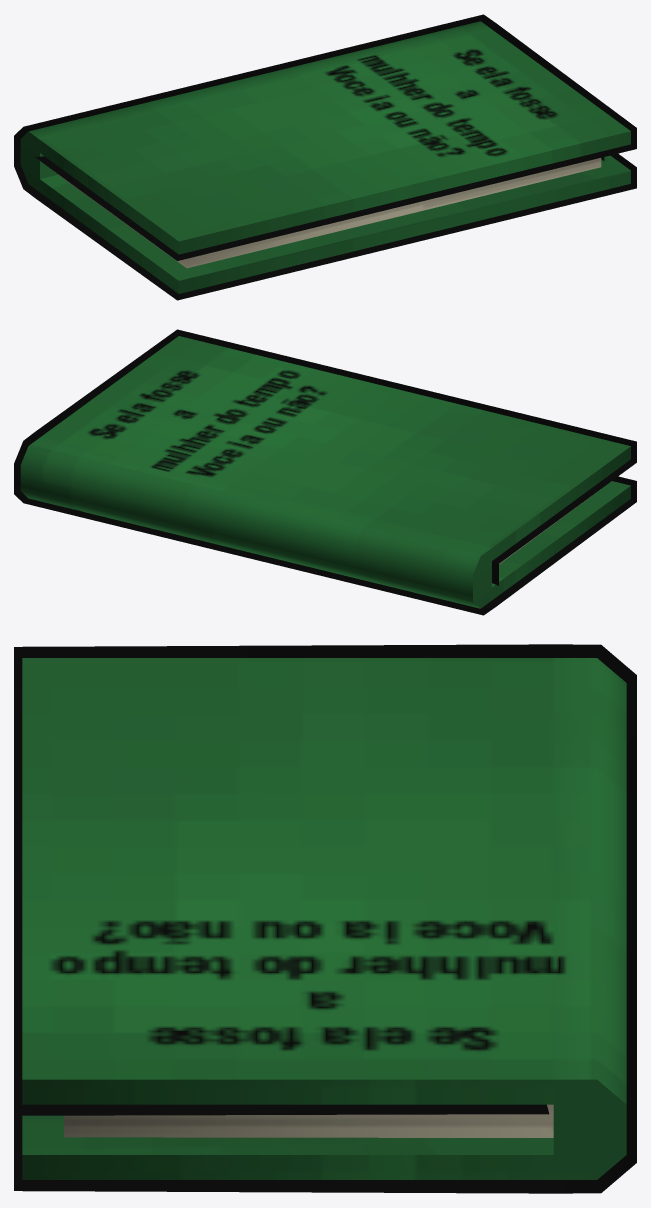
Rendered from Livro.glb.
The picture shows the model from 3 angles, top to bottom: view 1: azimuth 30°, elevation 25°; view 2: azimuth 150°, elevation 25°; view 3: azimuth 270°, elevation 25°; orthographic projection. The views are drawn at different scales.
Visible parts, largest first — view 1: Livro; view 2: Livro; view 3: Livro.
Part boxes in pixels (left/top/right/bottom): Livro: left=14, top=14, right=636, bottom=300; Livro: left=14, top=329, right=636, bottom=615; Livro: left=14, top=644, right=636, bottom=1193.
Size of the model in its own units: 1.6 by 0.2052 by 0.9716.
Materials: 2 (1 with a texture image).
